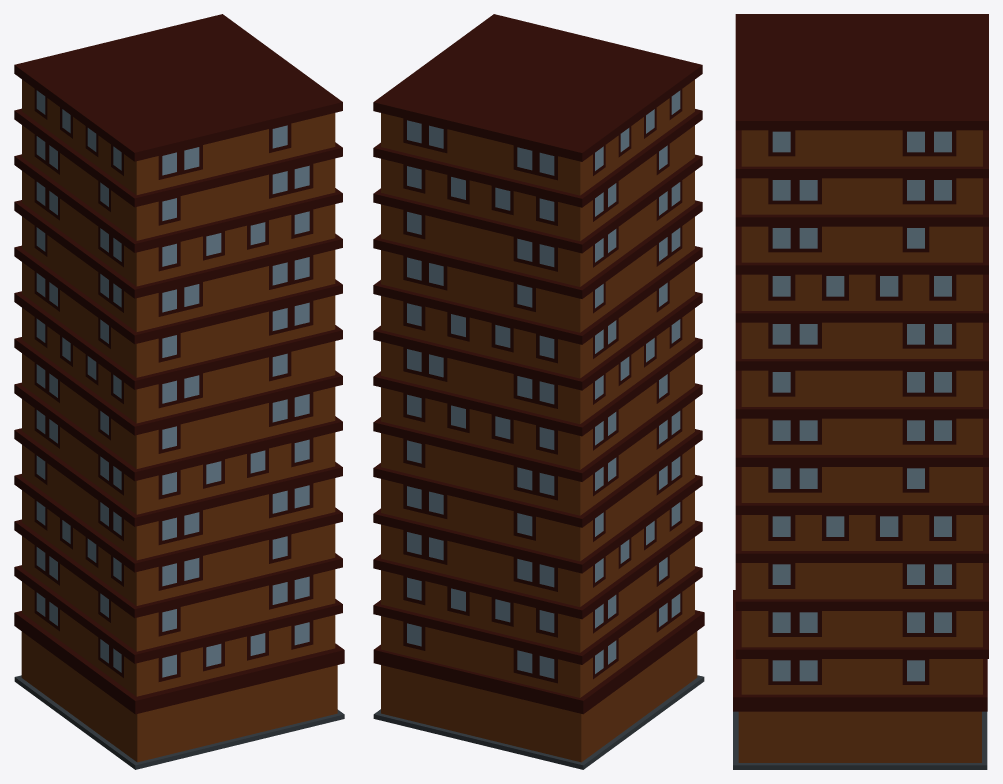
The model's file is sky brown.fbx.
The picture shows the model from 3 angles, left to right: view 1: azimuth 30°, elevation 25°; view 2: azimuth 150°, elevation 25°; view 3: azimuth 270°, elevation 25°; orthographic projection. The views are drawn at different scales.
Parts seen in each view (by area): view 1: skyscraper brown; view 2: skyscraper brown; view 3: skyscraper brown.
Boxes of the visible parts, x1,y1,x2,y2 form: skyscraper brown: (14, 14, 344, 769); skyscraper brown: (373, 14, 704, 769); skyscraper brown: (733, 14, 988, 769).
Size of the model in its own units: 9.62 by 27.05 by 9.67.
